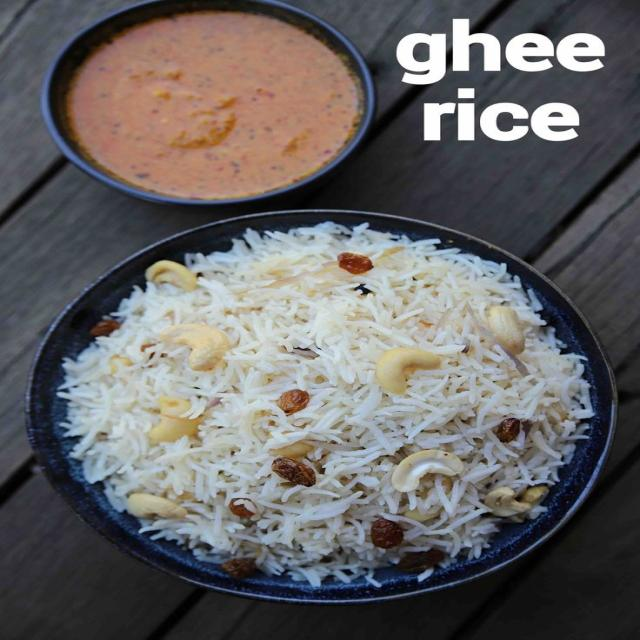nei satham: (46, 220, 638, 604)
